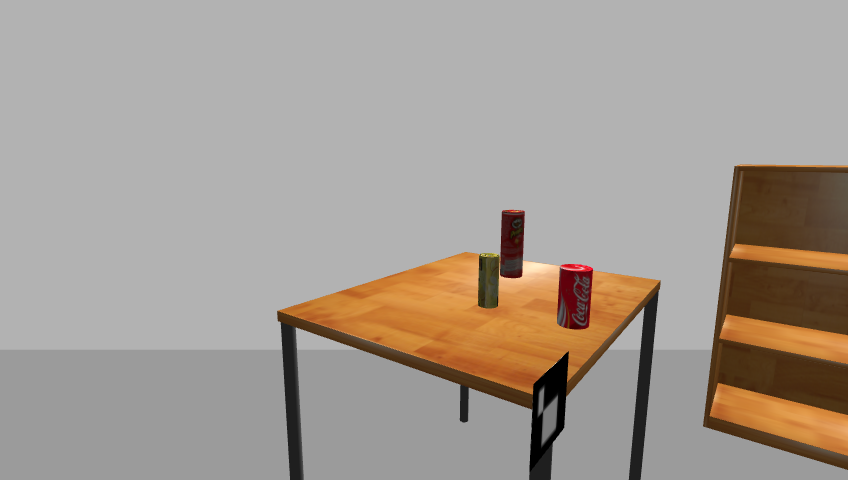aruco marker: (527, 352, 571, 478)
biscuits pack: (477, 252, 500, 310)
bookshelf: (700, 163, 848, 480)
coke can: (557, 264, 595, 330)
dinner table: (269, 251, 669, 480)
pringles can: (499, 209, 526, 281)
